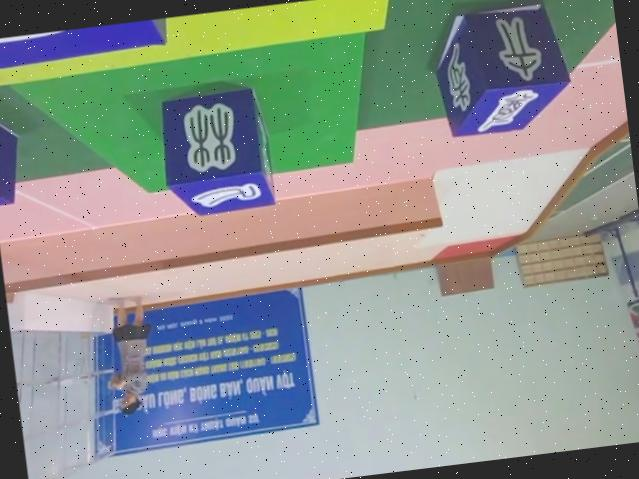R2 Fake Blue: (427, 0, 573, 137), (154, 85, 278, 219)
